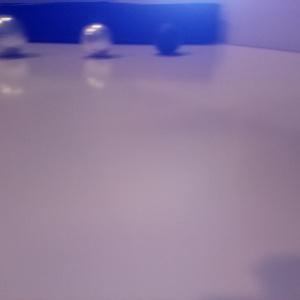alive_ball: (1, 14, 27, 56), (80, 22, 113, 55)
dead_ball: (152, 21, 182, 53)
